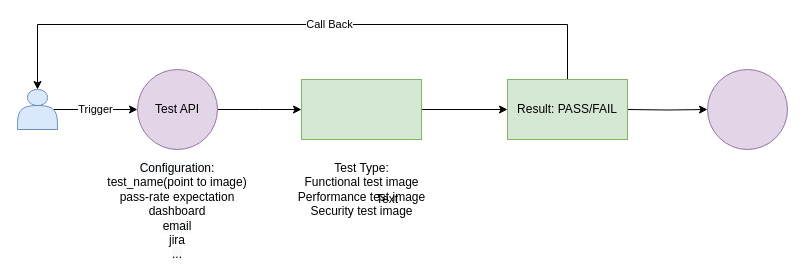
Some shapes in this 805 by 280 pixel diagram are drawn without their labels. Here are the shapes that lost their labels. From the top down, the centre of each, then its label:
At (361,109): "Pod: test-image:latest".
At (747,109): "Dashboard".
